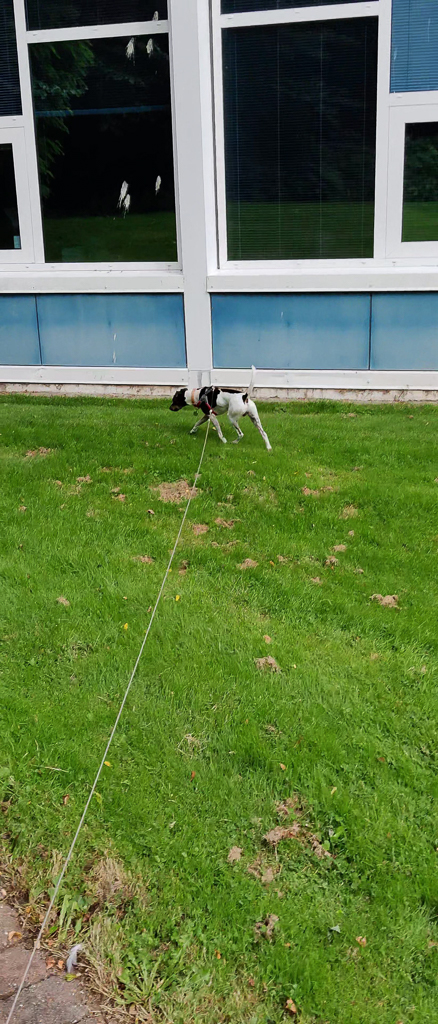Dog: (158, 359, 281, 460)
